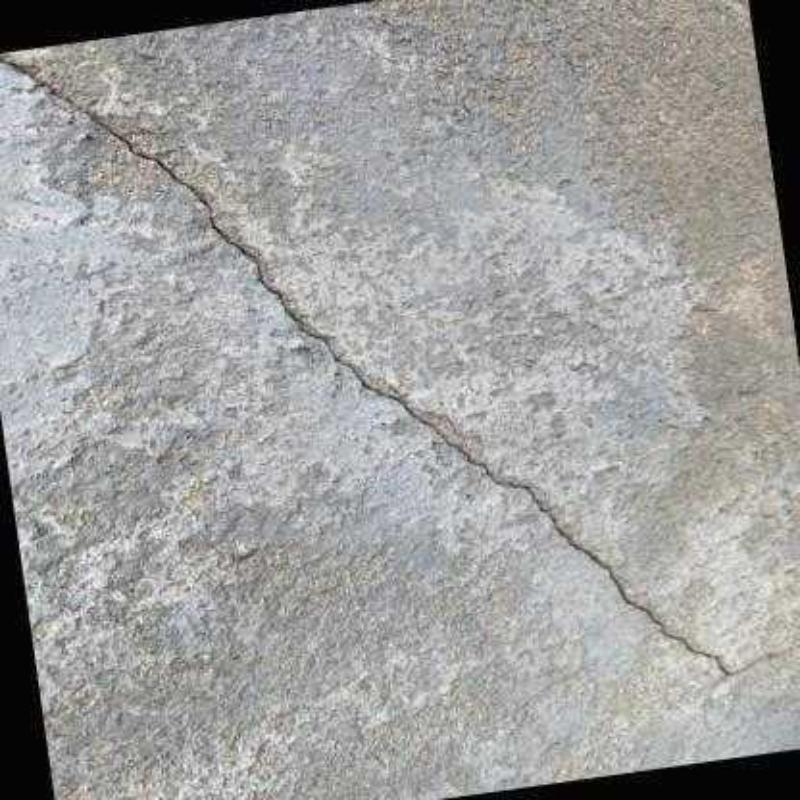crack: (1, 53, 730, 672)
